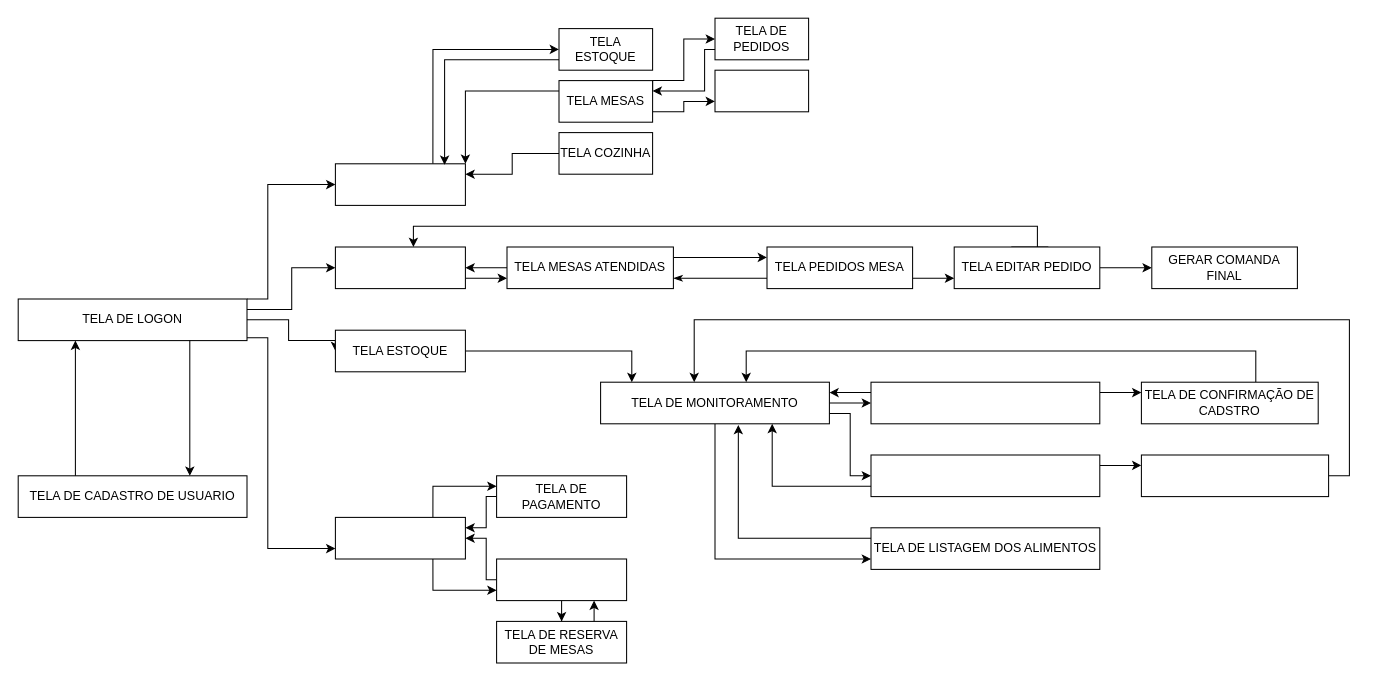
Image size: 1376x681. Some labels were removed from this diagram. Here are the shapes that lost their labels. From the top down, the box of each, then its label:
(714, 69, 809, 112): TELA RESERVAS
(334, 163, 465, 205): TELA DE GERENTE
(334, 246, 465, 289): TELA DE GARÇOM
(870, 381, 1100, 424): TELA DE CADASTRO DE ALIMENTO
(870, 454, 1100, 497): TELA DE REMOÇÃO DE ALIMENTO
(1140, 454, 1329, 497): TELA DE CONFIRMAÇÃO DE REMOÇÃO
(334, 516, 465, 559): TELA DE CAIXA E TELEATENDIMENTO
(496, 558, 627, 601): TELA DE MESAS
